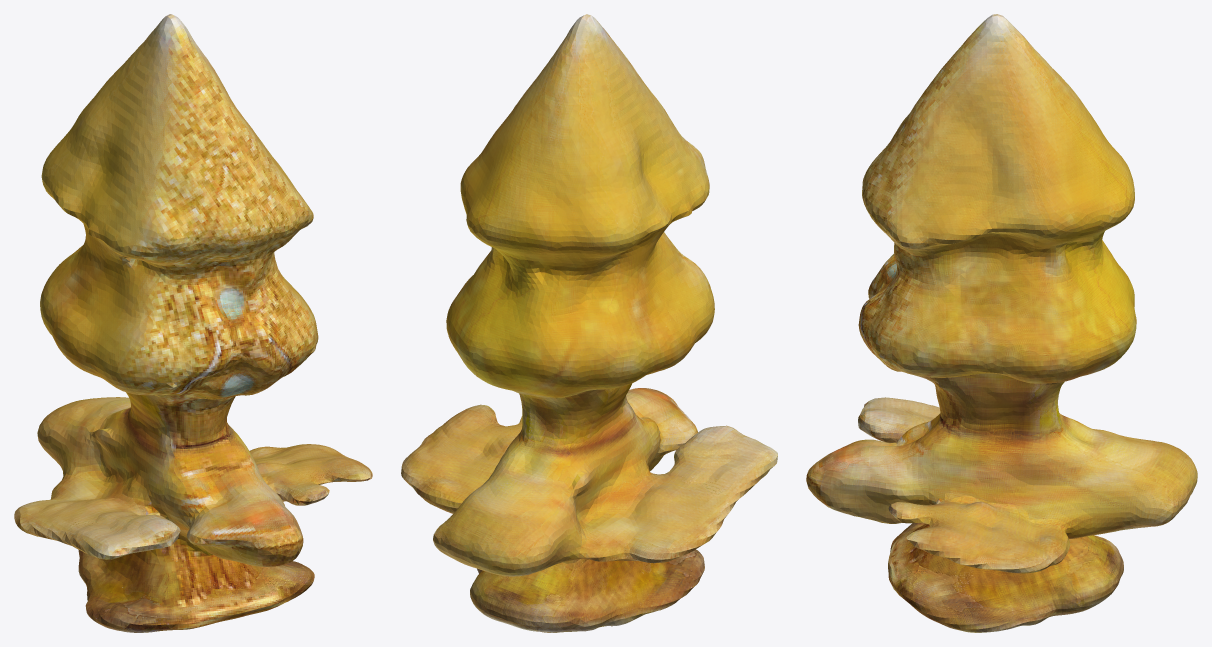
File: Tarma-4.fbx
3 views of the same model, side by side, from view 1: azimuth 30°, elevation 25°; view 2: azimuth 150°, elevation 25°; view 3: azimuth 270°, elevation 25° (orthographic). The views are drawn at different scales.
Parts seen in each view (by area): view 1: Mesh_0; view 2: Mesh_0; view 3: Mesh_0.
Boxes of the visible parts, x1=… form: Mesh_0: x1=14, y1=14, x2=372, y2=632; Mesh_0: x1=401, y1=14, x2=777, y2=632; Mesh_0: x1=806, y1=14, x2=1197, y2=632.
Size of the model in its own units: 77.43 by 139 by 85.96.
Materials: 1 (1 with a texture image).
